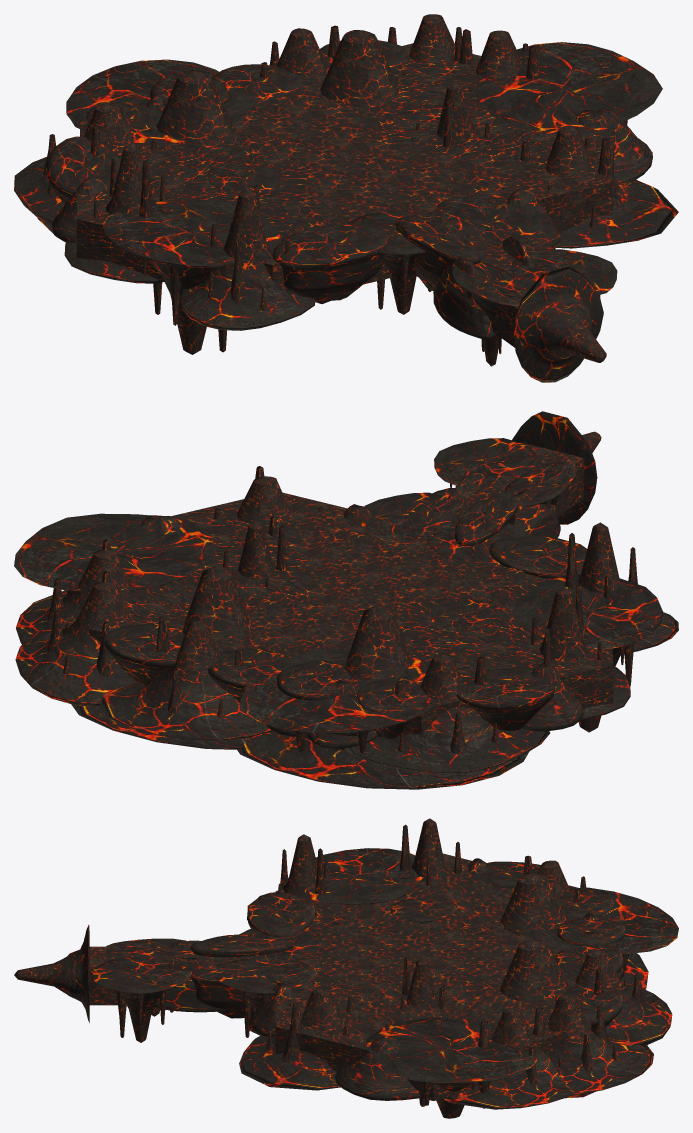
The model's file is Room.fbx.
The picture shows the model from 3 angles, top to bottom: view 1: azimuth 30°, elevation 25°; view 2: azimuth 150°, elevation 25°; view 3: azimuth 270°, elevation 25°; orthographic projection. The views are drawn at different scales.
Visible parts, largest first — view 1: polySurface581; view 2: polySurface581; view 3: polySurface581.
Part boxes in pixels (x1,y1,x2,y2): polySurface581: (14,14,678,382); polySurface581: (14,411,678,789); polySurface581: (14,818,678,1118).
Size of the model in its own units: 118 by 35.53 by 141.
Materials: 1 (1 with a texture image).
